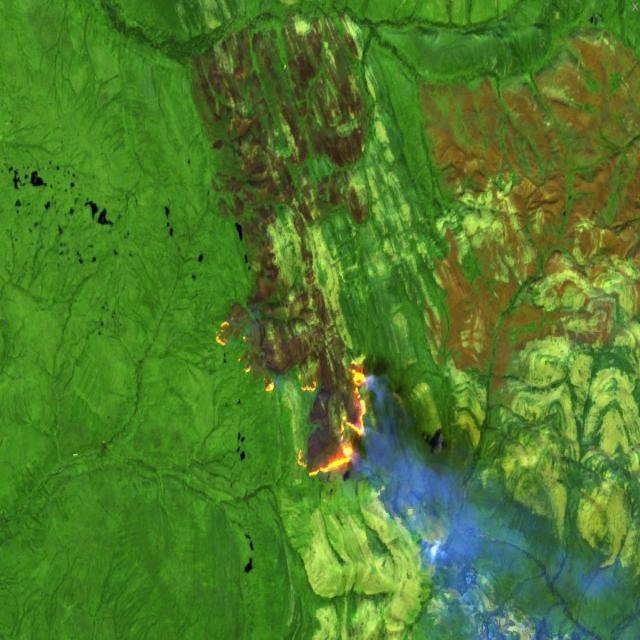fire: (210, 316, 374, 486)
